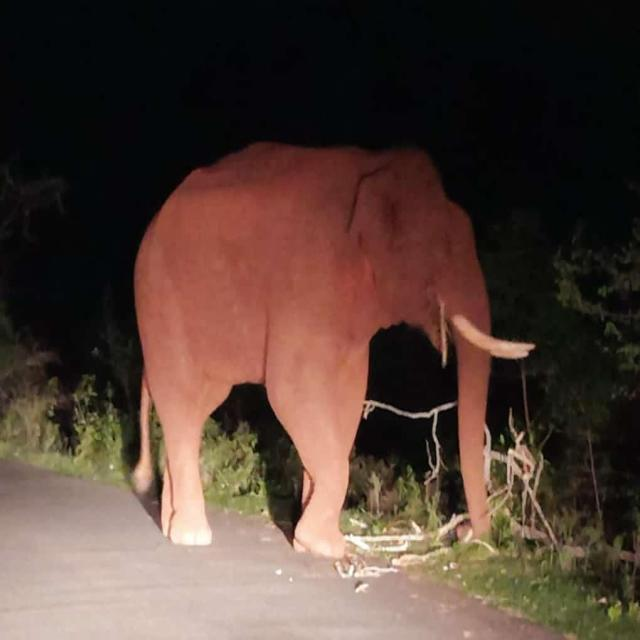Elephant: (134, 141, 493, 555)
